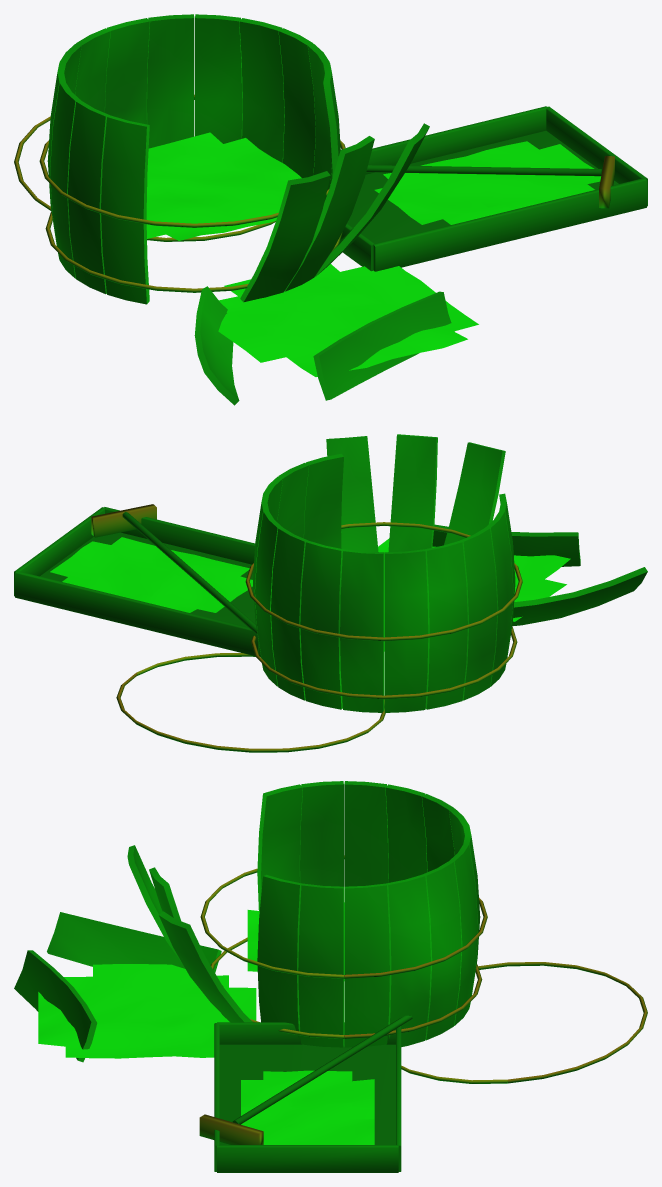
Rendered from brine_vat_burned.glb.
3 views of the same model, one above another, from view 1: azimuth 30°, elevation 25°; view 2: azimuth 150°, elevation 25°; view 3: azimuth 270°, elevation 25° (orthographic). The views are drawn at different scales.
Visible parts, largest first — view 1: brine_vat_burned; view 2: brine_vat_burned; view 3: brine_vat_burned.
Boxes of the visible parts, x1,y1,x2,y2 form: brine_vat_burned: (14, 14, 647, 405); brine_vat_burned: (14, 434, 647, 752); brine_vat_burned: (14, 781, 647, 1172).
Size of what is drawn, in the model's own units: 3.11 by 1.09 by 3.49.
